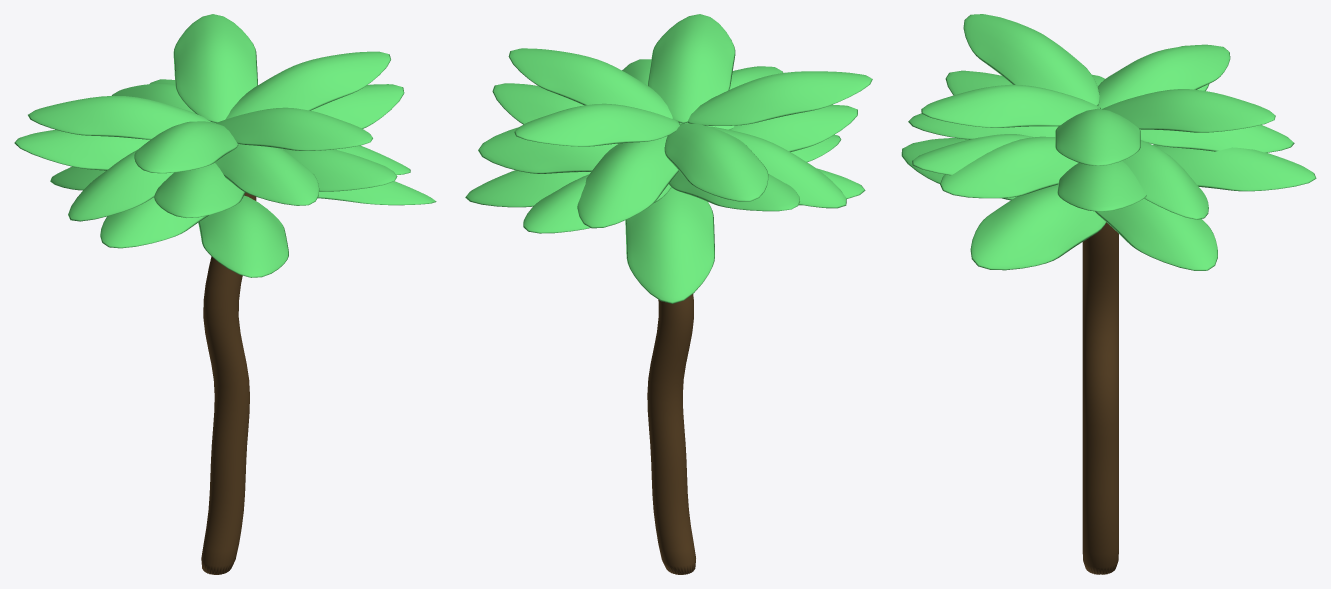
File: Tree.fbx
3 renders of one model, left to right at view 1: azimuth 30°, elevation 25°; view 2: azimuth 150°, elevation 25°; view 3: azimuth 270°, elevation 25°, orthographic. The views are drawn at different scales.
Visible parts, largest first — view 1: Cube.001; view 2: Cube.001; view 3: Cube.001.
Part boxes in pixels (box(x1,y1,x2,y2)): Cube.001: box(14, 14, 436, 574); Cube.001: box(465, 14, 872, 574); Cube.001: box(901, 14, 1316, 574).
Bounding box in the file's own units: 871 × 1170 × 860.
